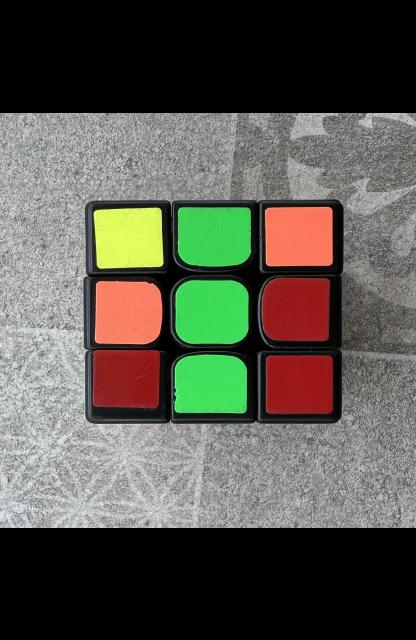Green: (176, 279, 249, 343), (178, 206, 250, 266), (174, 354, 247, 412)
Orange: (94, 280, 162, 344), (266, 206, 333, 266)
Red: (262, 277, 330, 341), (93, 349, 160, 408), (266, 355, 333, 413)
Yellow: (93, 206, 163, 268)
